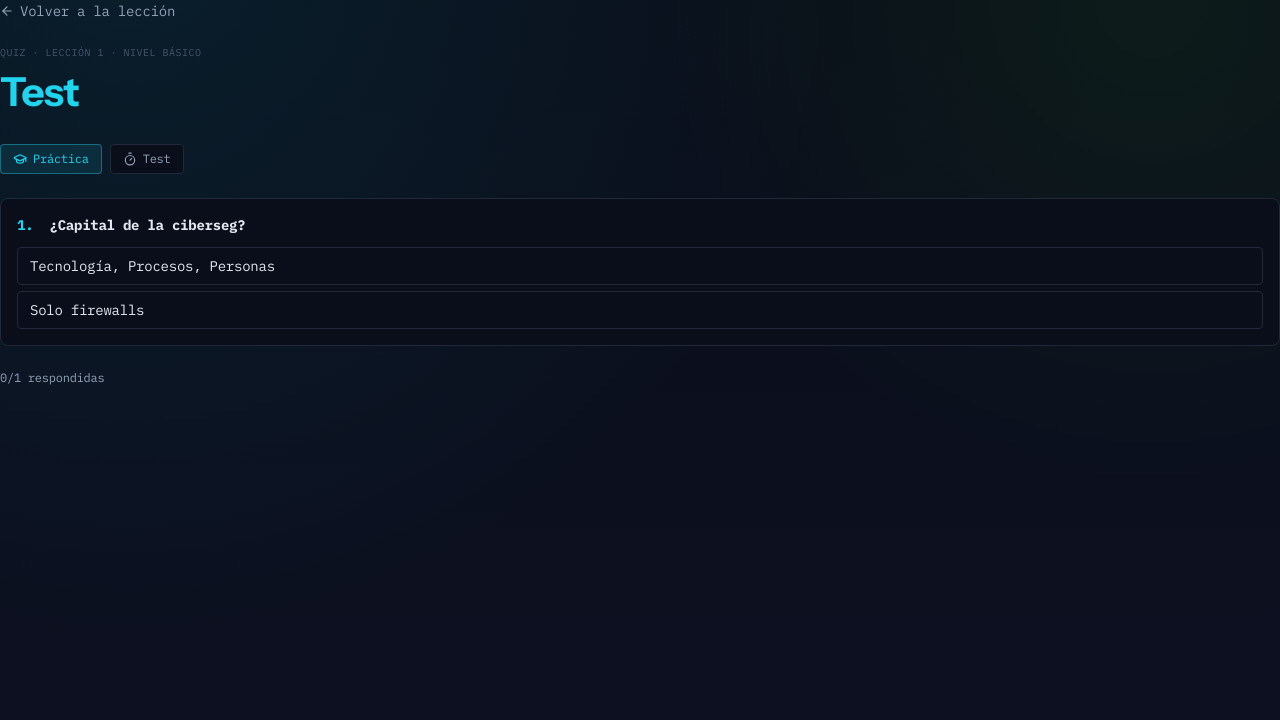
Test: QuizRunner — al aprobar (confirmación + navegación) › no muestra 'Continuar →' si no hay próxima lección
Click the button "Tecnología, Procesos, Personas" at (152, 266), box [17,247,1263,285]
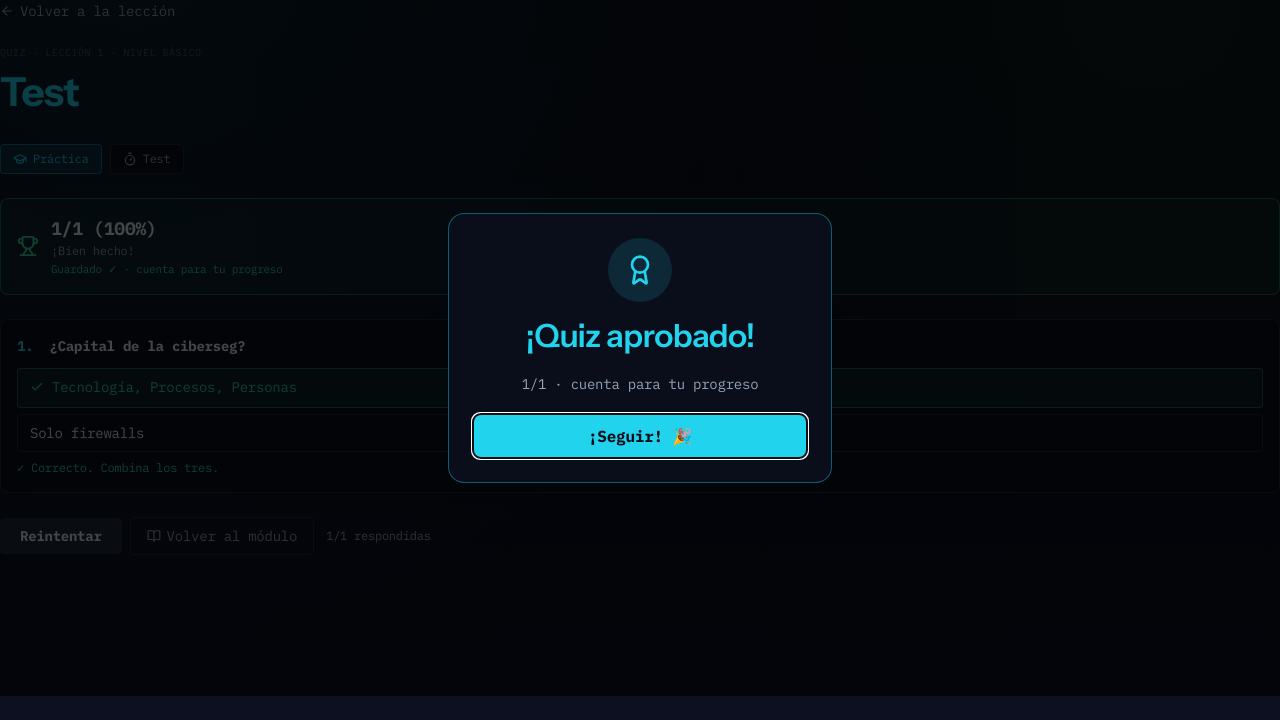
Result: the text "Guardado ✓ · cuenta para tu progreso" is shown at [51,261,283,278]
